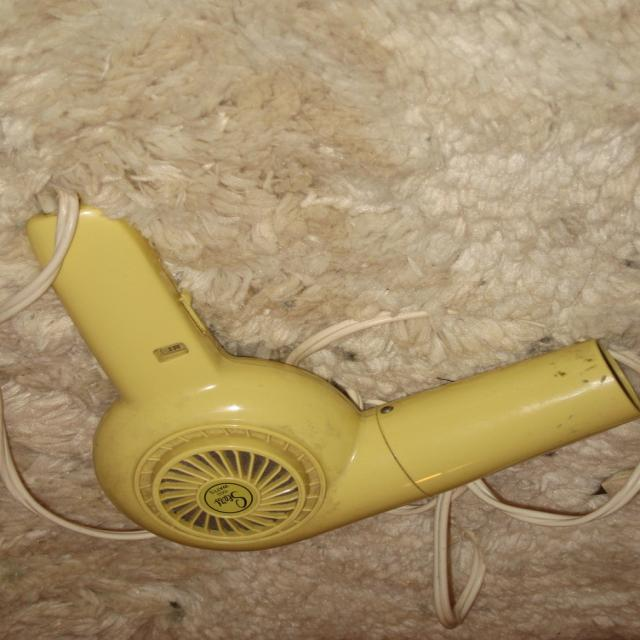dryer: (14, 181, 640, 564)
